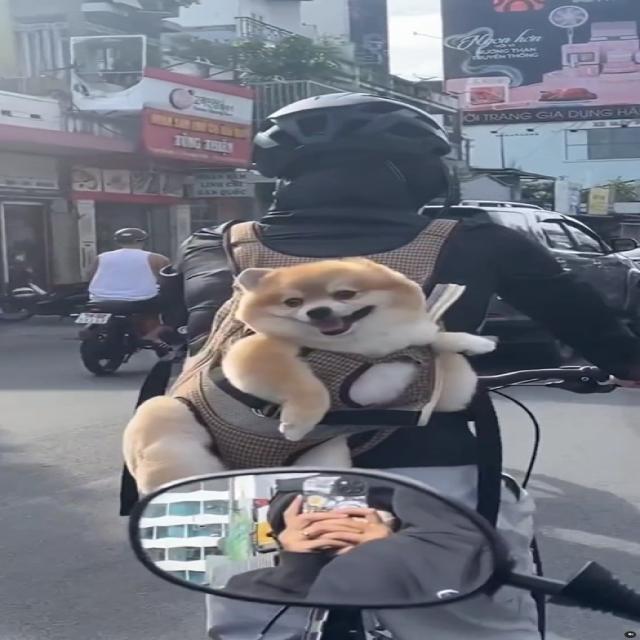illegal_helmet: (244, 88, 458, 211)
